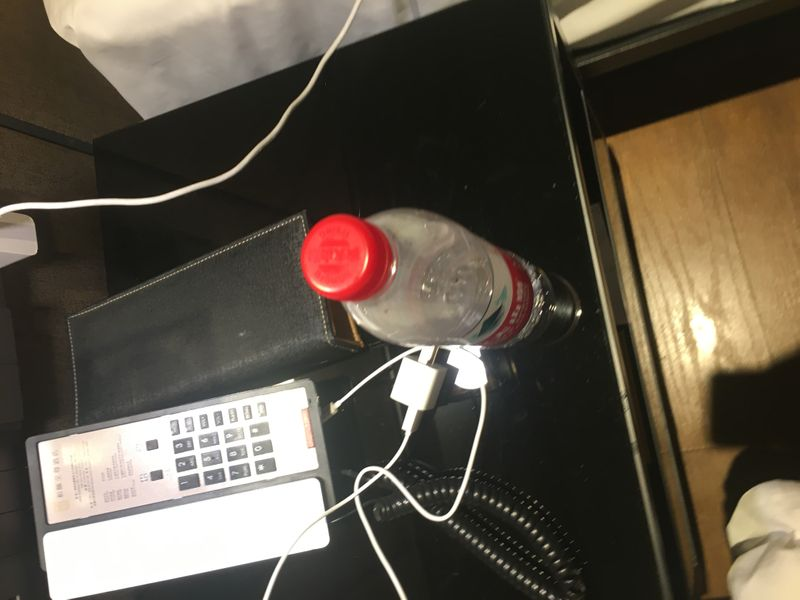5eca67a90202601e8cb8d104: (302, 197, 550, 361)
